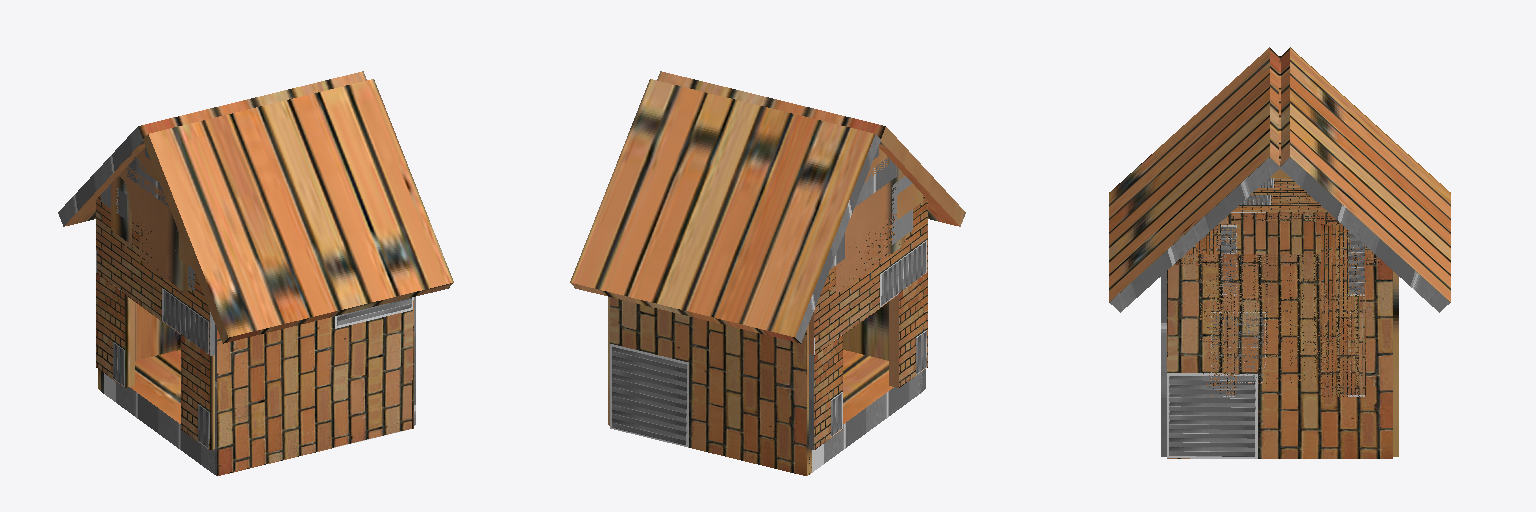
3 views of the same model, side by side, from view 1: azimuth 30°, elevation 25°; view 2: azimuth 150°, elevation 25°; view 3: azimuth 270°, elevation 25° (orthographic).
Size of the model in its own units: 2.3 by 2.99 by 3.01.
Materials: 24 (1 with a texture image).